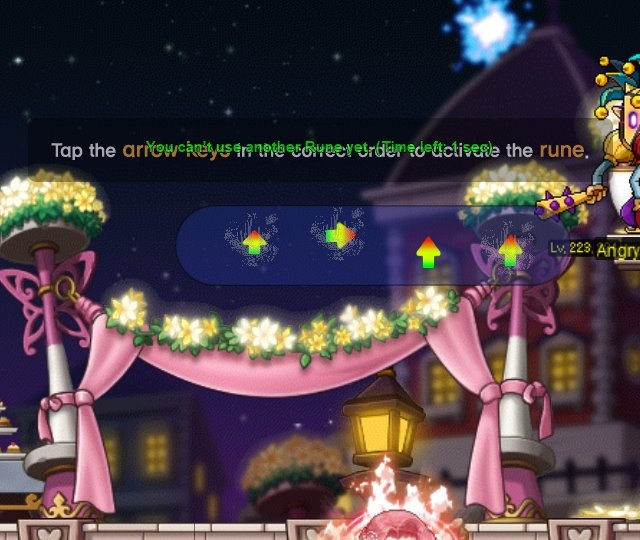rune_box: (169, 200, 574, 290)
